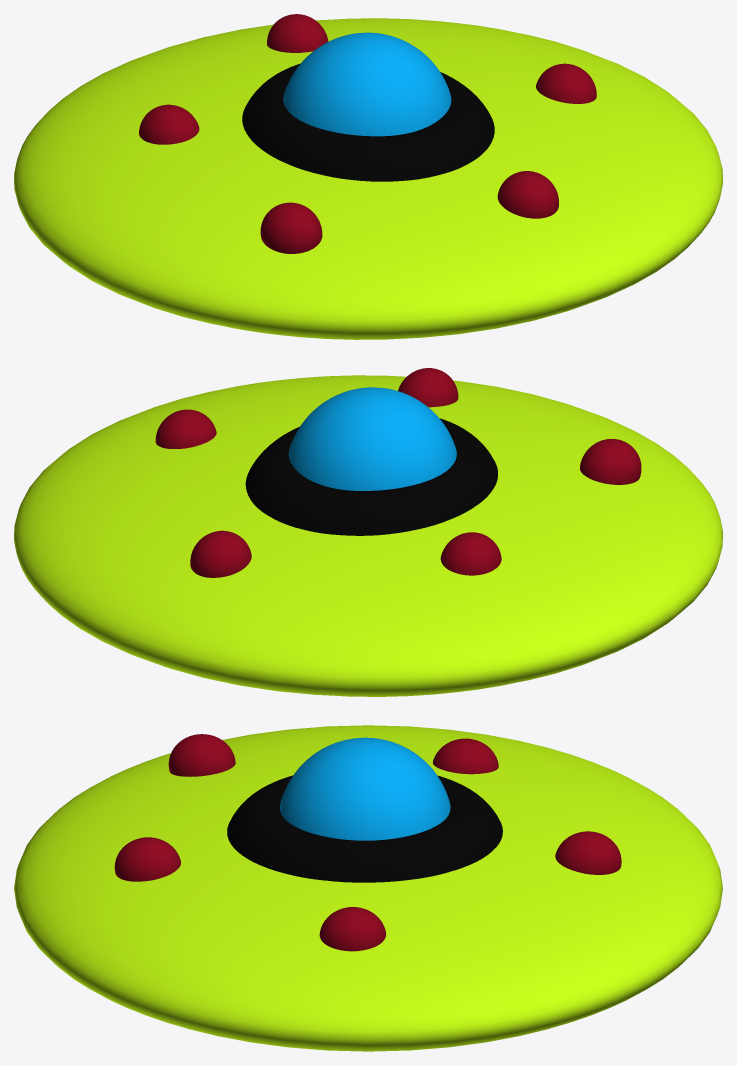
File: UFO.fbx
The picture shows the model from 3 angles, top to bottom: view 1: azimuth 30°, elevation 25°; view 2: azimuth 150°, elevation 25°; view 3: azimuth 270°, elevation 25°; orthographic projection.
Parts seen in each view (by area): view 1: root (×8); view 2: root (×8); view 3: root (×8).
Boxes of the visible parts, x1,y1,x2,y2 form: root (×8): (14, 14, 722, 339); root (×8): (14, 368, 722, 696); root (×8): (14, 725, 722, 1051).
Bounding box in the file's own units: 0.8169 × 0.2541 × 0.8081.
Materials: 4 (4 with a texture image).
